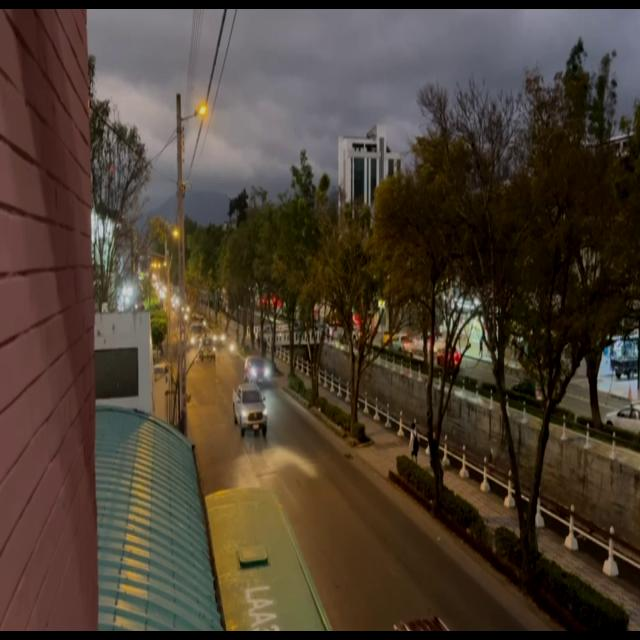CMT: (234, 385, 265, 437)
SUV: (246, 357, 266, 382)
